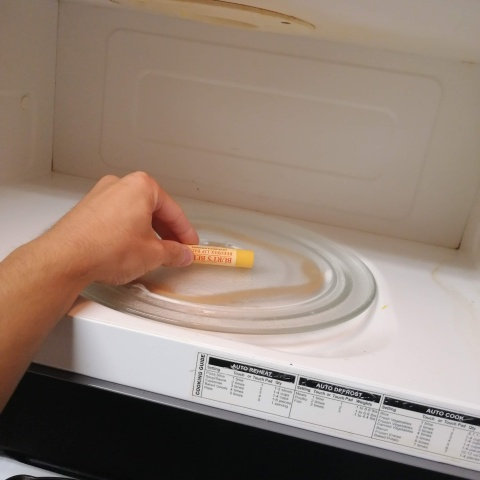chapstick: (185, 243, 255, 270)
